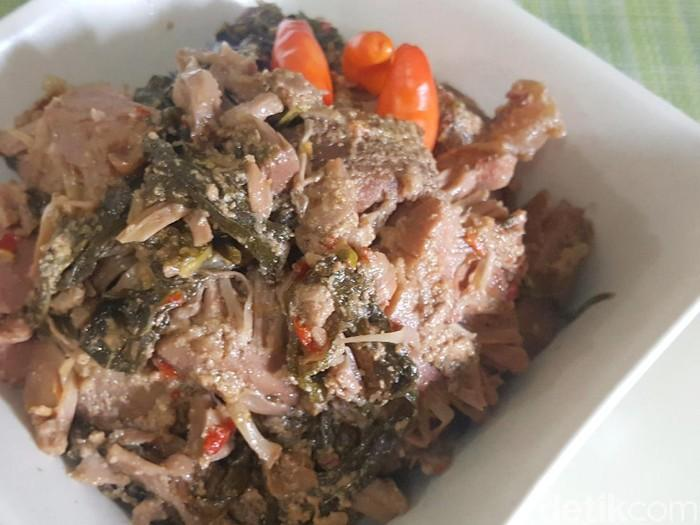gudeg: (1, 1, 598, 525)
